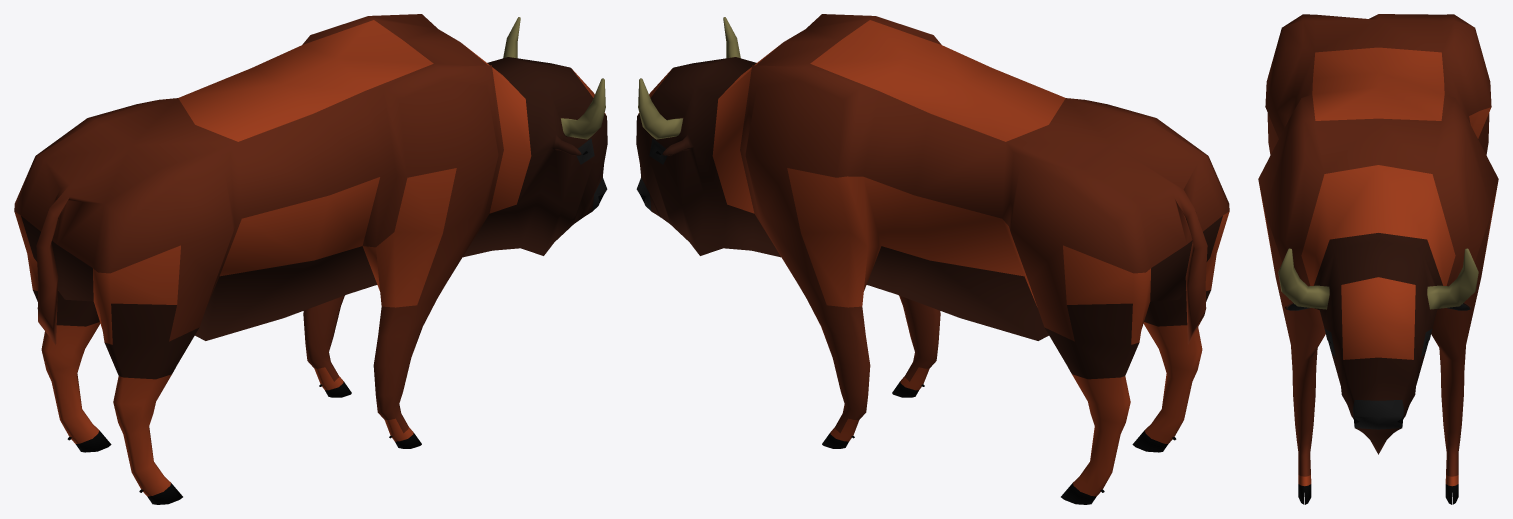
File: bison.glb
The picture shows the model from 3 angles, left to right: view 1: azimuth 30°, elevation 25°; view 2: azimuth 150°, elevation 25°; view 3: azimuth 270°, elevation 25°; orthographic projection. The views are drawn at different scales.
Visible parts, largest first — view 1: Cube.039; view 2: Cube.039; view 3: Cube.039.
Boxes of the visible parts, x1,y1,x2,y2 form: Cube.039: (14, 14, 607, 504); Cube.039: (636, 14, 1229, 504); Cube.039: (1258, 14, 1498, 504).
Size of the model in its own units: 1.4 by 0.8954 by 0.4946.
